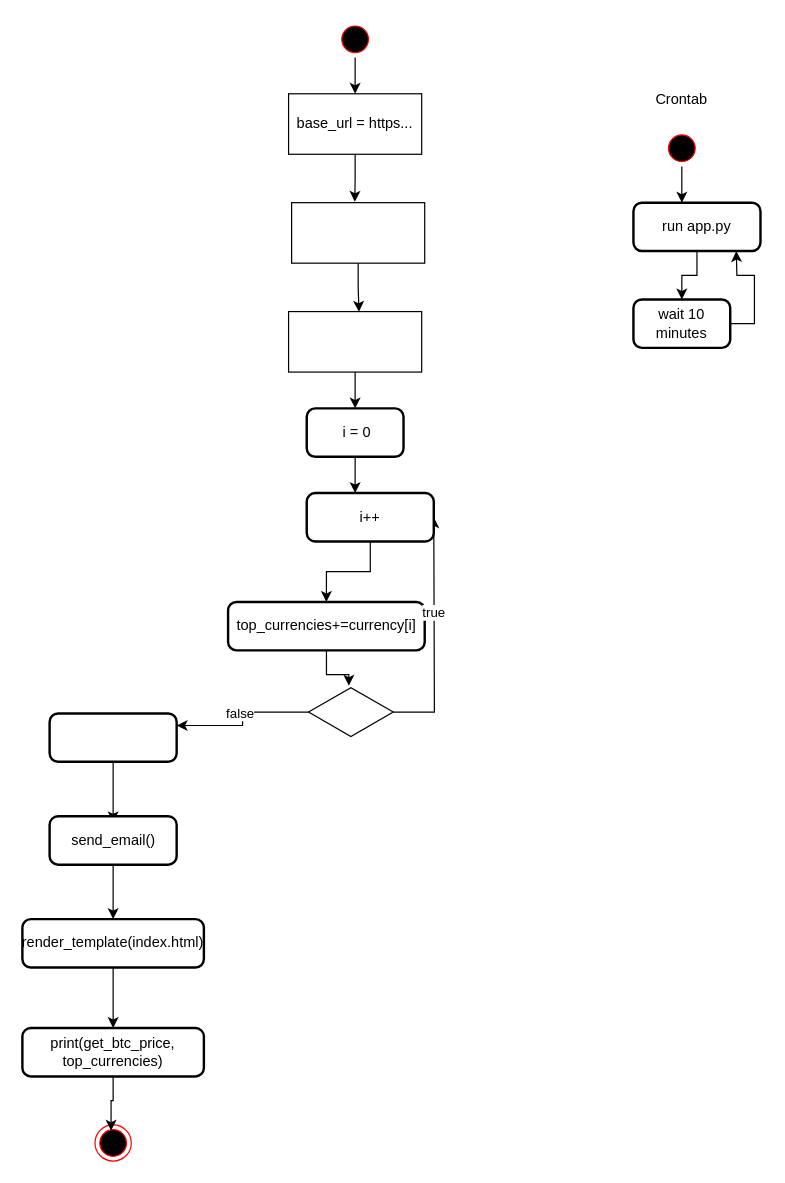
Image size: 785x1183. Some labels were removed from this diagram. The shapes that lost their labels are listed below. From the top down, each one's box as (x1, y1, x2, y2) in pixels, then its label:
(290, 201, 425, 263): get API data in JSON format
(287, 310, 422, 372): limit = 10
(307, 685, 393, 737): i < limit
(48, 712, 177, 762): get_btc_price()
